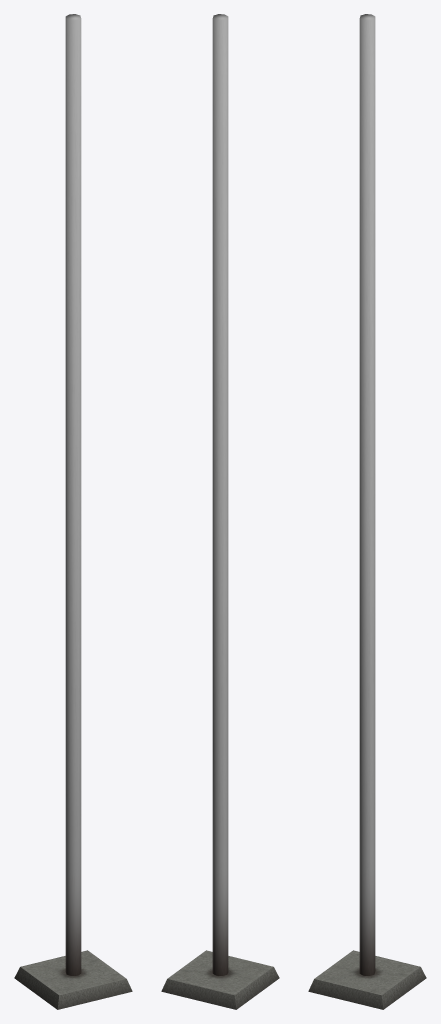
The model's file is Parts_Pillar_4000.fbx.
3 views of the same model, side by side, from view 1: azimuth 30°, elevation 25°; view 2: azimuth 150°, elevation 25°; view 3: azimuth 330°, elevation 25° (orthographic).
Visible parts, largest first — view 1: 902_pillar_4000; view 2: 902_pillar_4000; view 3: 902_pillar_4000.
Boxes of the visible parts, box(x1,y1,x2,y2) form: 902_pillar_4000: box(14, 14, 132, 1009); 902_pillar_4000: box(161, 14, 279, 1009); 902_pillar_4000: box(308, 14, 426, 1009).
Size of the model in its own units: 0.325 by 4 by 0.325.
